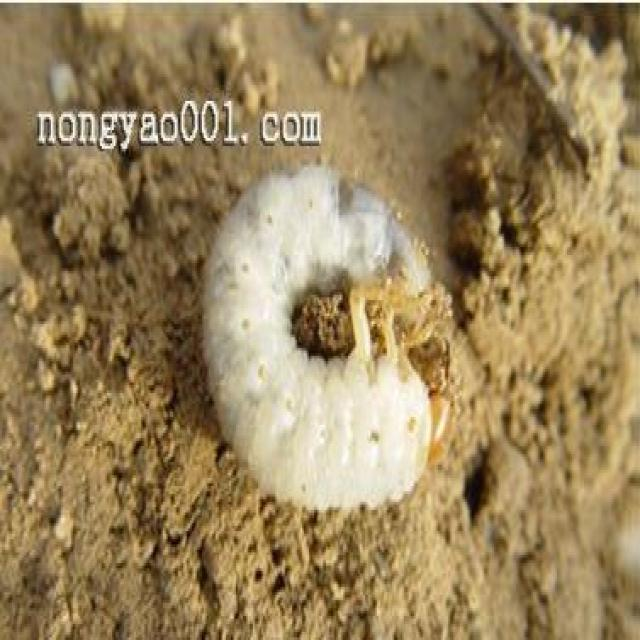Grub-Adult-: (193, 158, 458, 520)
